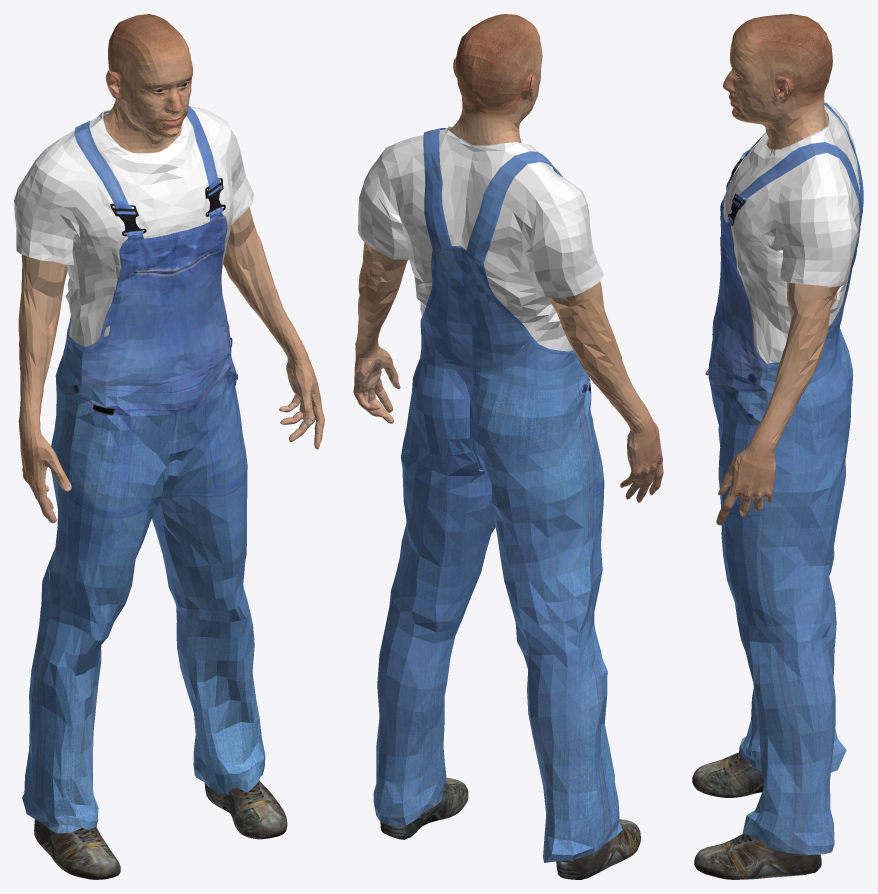
The model's file is worker obj.obj.
The picture shows the model from 3 angles, left to right: view 1: azimuth 30°, elevation 25°; view 2: azimuth 150°, elevation 25°; view 3: azimuth 270°, elevation 25°; orthographic projection. The views are drawn at different scales.
Parts seen in each view (by area): view 1: male_worksuit01.obj, male_muscle_13290.obj, shoes02.obj; view 2: male_worksuit01.obj, male_muscle_13290.obj, shoes02.obj; view 3: male_worksuit01.obj, male_muscle_13290.obj, shoes02.obj.
Boxes of the visible parts, box(x1,y1,x2,y2) form: male_worksuit01.obj: box(14, 106, 265, 833); male_muscle_13290.obj: box(18, 14, 324, 523); shoes02.obj: box(34, 780, 287, 879); male_worksuit01.obj: box(358, 126, 622, 862); male_muscle_13290.obj: box(353, 14, 663, 502); shoes02.obj: box(380, 777, 640, 879); male_worksuit01.obj: box(708, 102, 863, 854); male_muscle_13290.obj: box(705, 14, 840, 525); shoes02.obj: box(692, 752, 821, 879).
Size of the model in its own units: 6.73 by 17.92 by 3.43.
